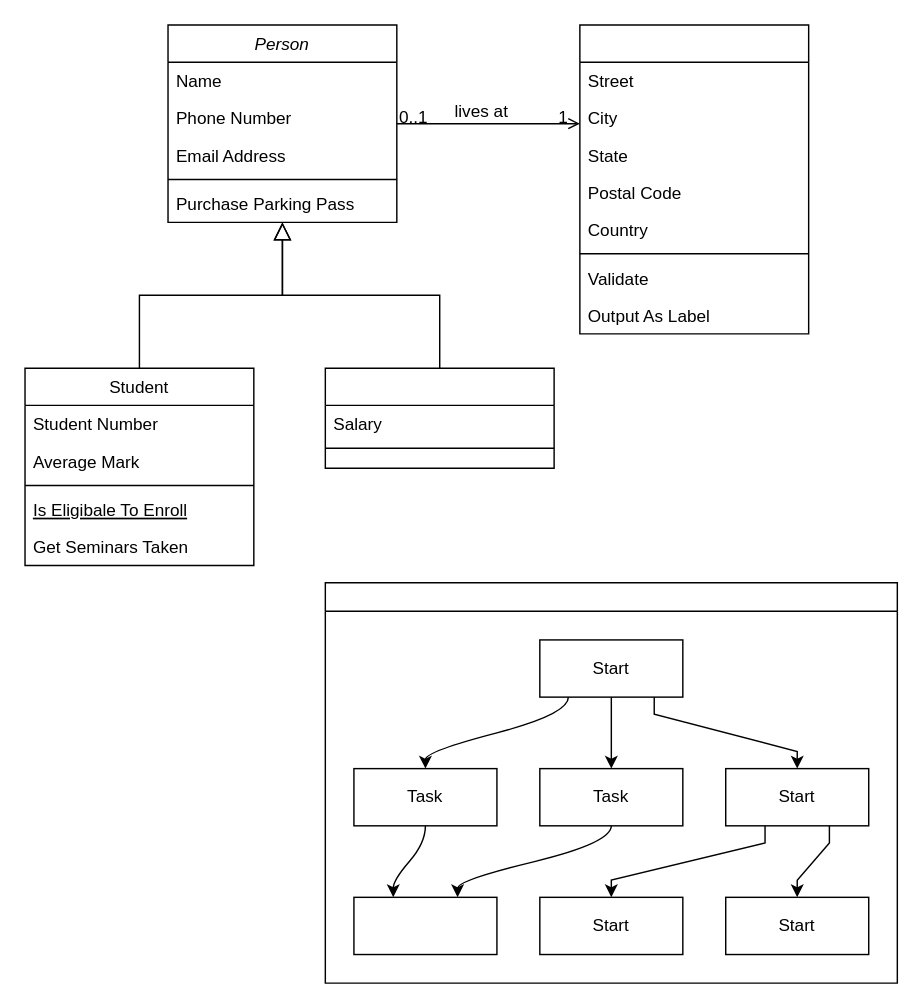
Some shapes in this 922 by 1008 pixel diagram are drawn without their labels. The shapes that lost their labels are listed below. From the top down, each one's box as (x1, y1, x2, y2) in pixels, then its label:
(578, 24, 809, 334): Address
(324, 367, 554, 468): Professor
(324, 581, 897, 983): Vertical Flow Layout
(352, 896, 497, 955): End
